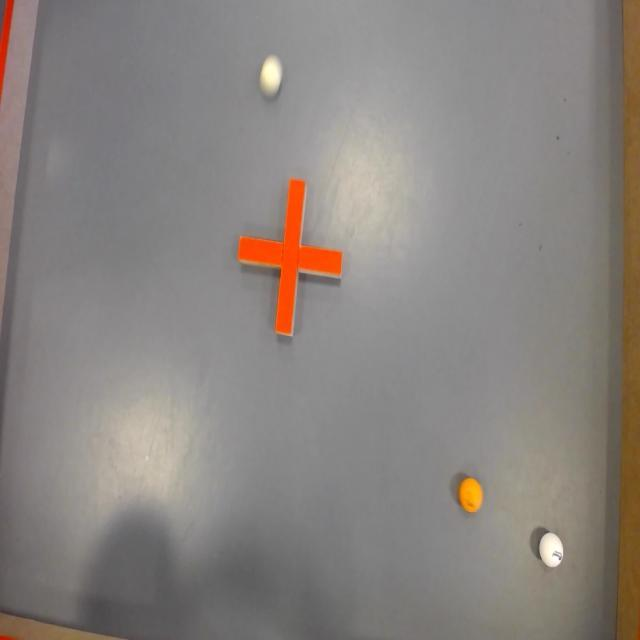orange: (458, 474, 483, 514)
white: (258, 54, 286, 102), (540, 530, 566, 570)
